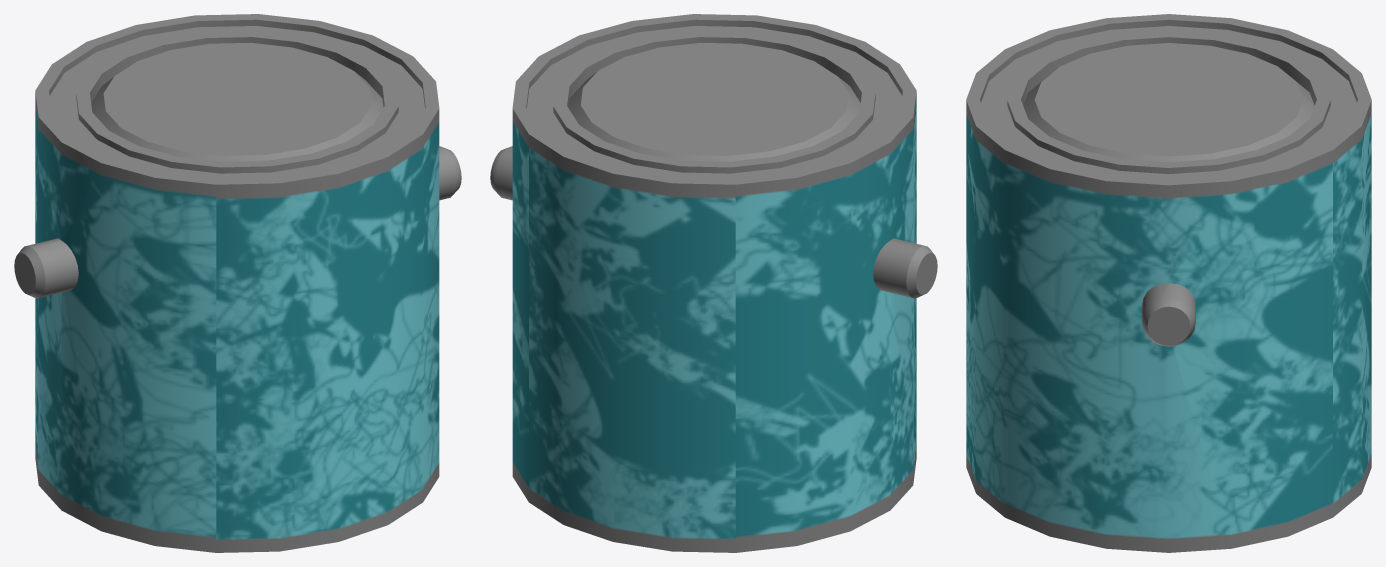
Rendered from Paint_can_02 1.fbx.
The picture shows the model from 3 angles, left to right: view 1: azimuth 30°, elevation 25°; view 2: azimuth 150°, elevation 25°; view 3: azimuth 270°, elevation 25°; orthographic projection.
Parts seen in each view (by area): view 1: pCylinder3; view 2: pCylinder3; view 3: pCylinder3.
Part boxes in pixels (bbox=[...]): pCylinder3: bbox=[14, 14, 461, 552]; pCylinder3: bbox=[490, 14, 937, 552]; pCylinder3: bbox=[966, 14, 1371, 552].
Bounding box in the file's own units: 36.3 × 30 × 30.
1 material, 1 textured.
